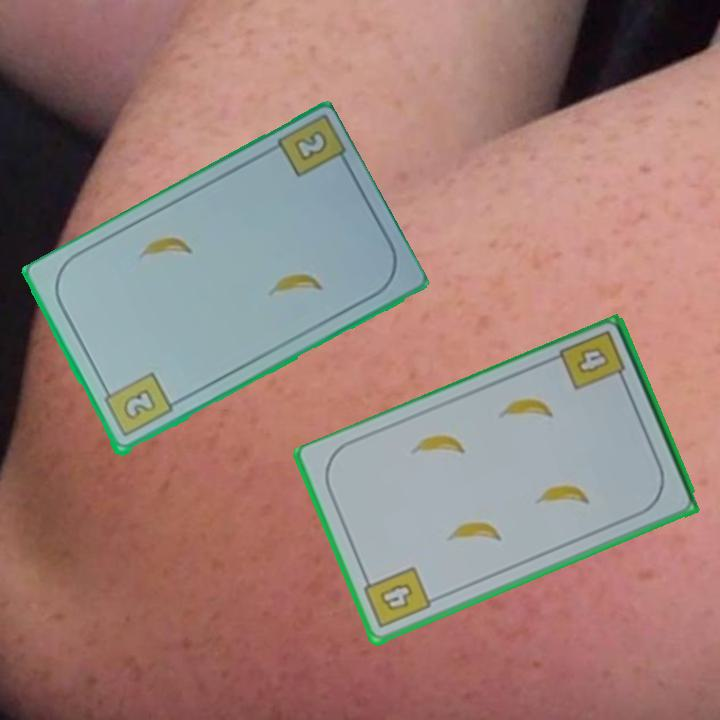2b: (99, 369, 175, 441), (290, 127, 331, 165)
4b: (359, 563, 434, 632), (556, 327, 630, 394)
